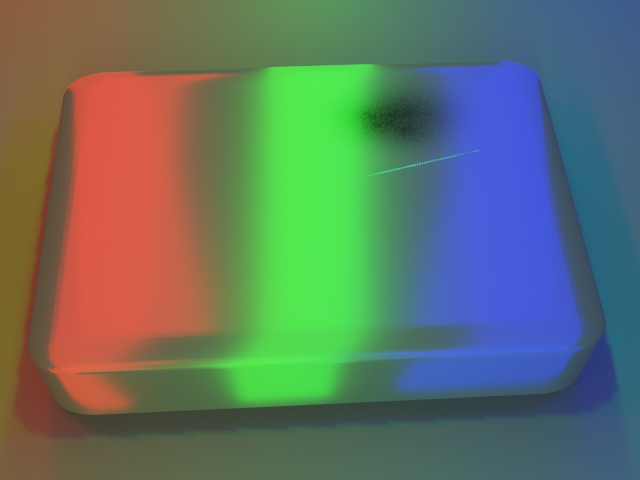scratch: (259, 57, 595, 261)
stain: (277, 46, 514, 170)
